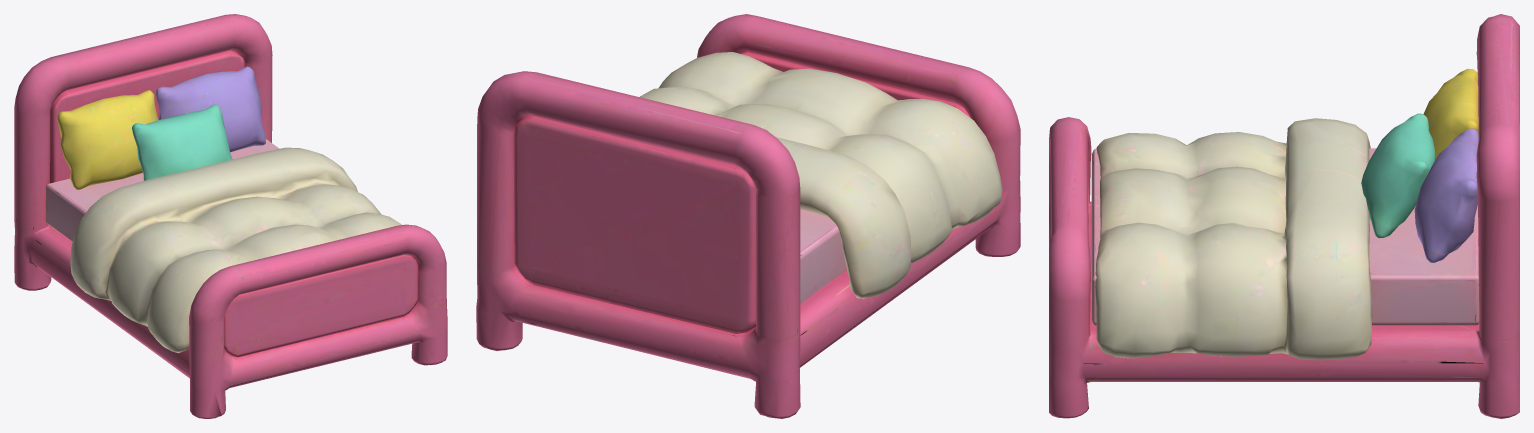
The model's file is bed.glb.
The picture shows the model from 3 angles, left to right: view 1: azimuth 30°, elevation 25°; view 2: azimuth 150°, elevation 25°; view 3: azimuth 270°, elevation 25°; orthographic projection. The views are drawn at different scales.
Parts seen in each view (by area): view 1: geometry_0; view 2: geometry_0; view 3: geometry_0.
Boxes of the visible parts, x1=… form: geometry_0: x1=14, y1=14, x2=447, y2=418; geometry_0: x1=476, y1=14, x2=1020, y2=418; geometry_0: x1=1049, y1=14, x2=1519, y2=418.
Bounding box in the file's own units: 0.8342 × 0.6406 × 1.
Materials: 1 (1 with a texture image).
